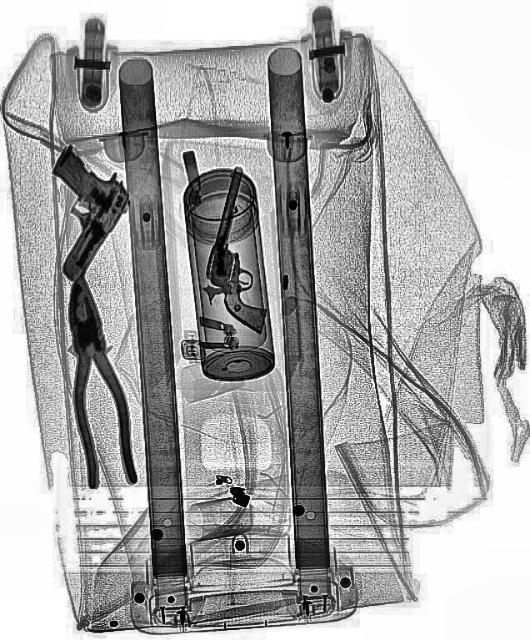Gun: (10, 138, 136, 284), (194, 162, 298, 332)
Pliers: (54, 264, 138, 492)
